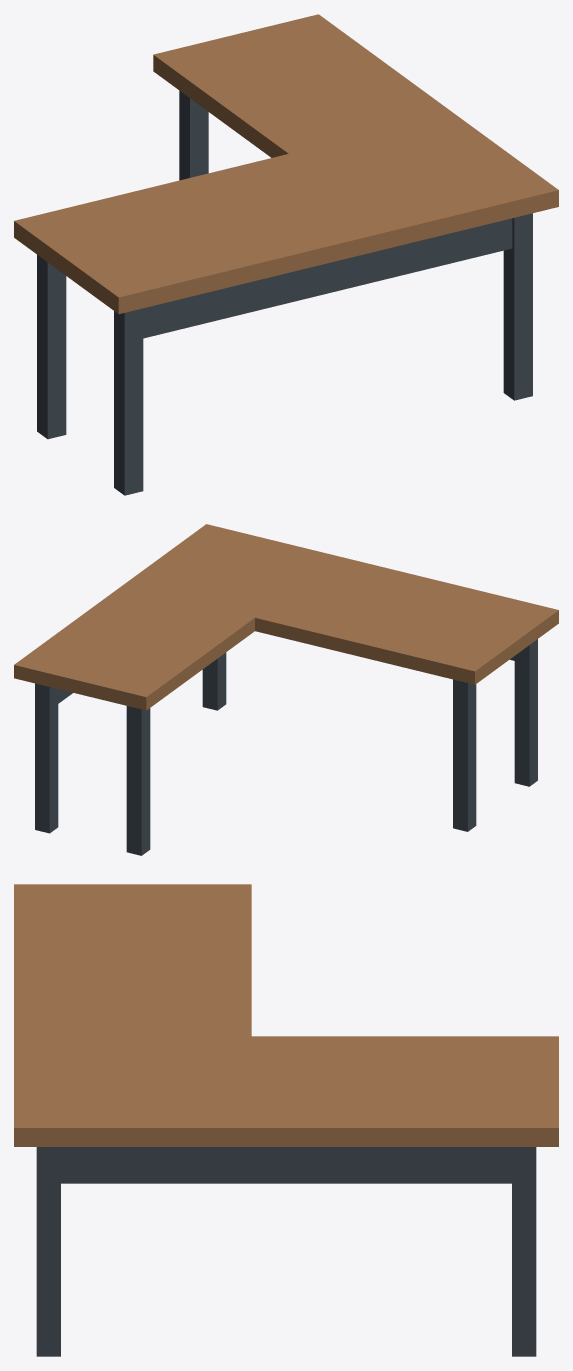
Rendered from DeskLShaped.obj.
The picture shows the model from 3 angles, top to bottom: view 1: azimuth 30°, elevation 25°; view 2: azimuth 150°, elevation 25°; view 3: azimuth 270°, elevation 25°; orthographic projection. The views are drawn at different scales.
Visible parts, largest first — view 1: DeskLShaped; view 2: DeskLShaped; view 3: DeskLShaped.
Part boxes in pixels (<box>): DeskLShaped: <box>14,14,558,495</box>; DeskLShaped: <box>14,524,558,855</box>; DeskLShaped: <box>14,884,558,1356</box>.
Bounding box in the file's own units: 1.65 × 0.75 × 1.56.
1 material, 1 textured.
